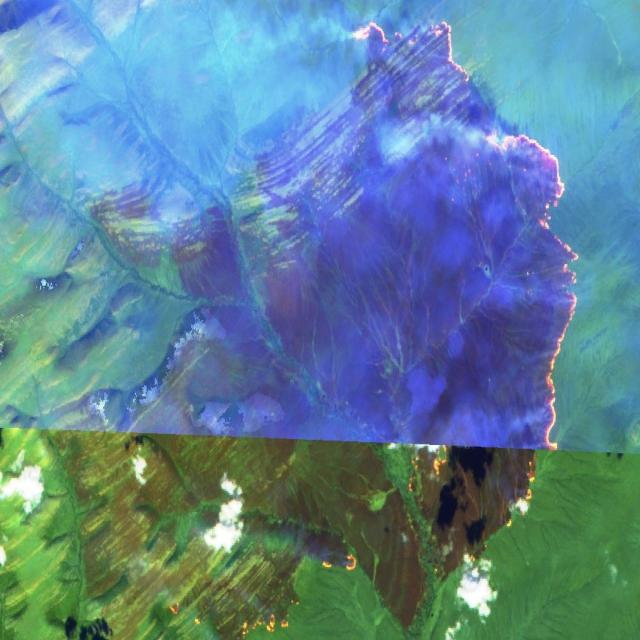fire: (483, 120, 582, 463), (348, 10, 478, 91)
